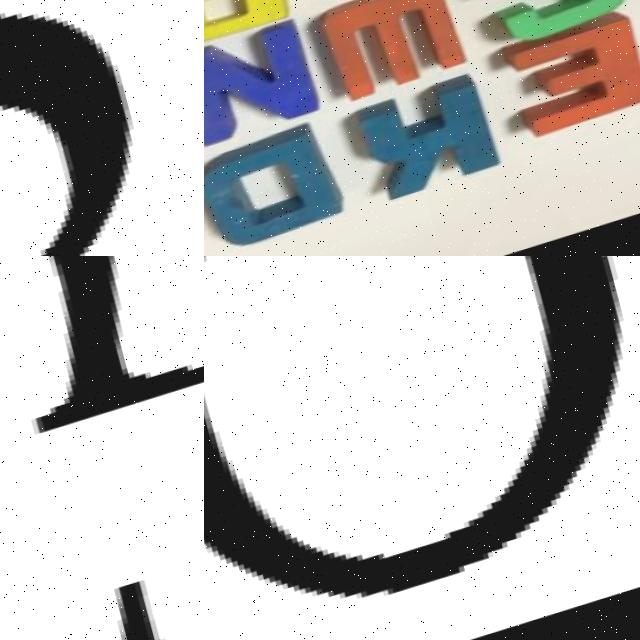C: (469, 0, 629, 55)
D: (204, 120, 344, 256)
E: (497, 18, 640, 147)
G: (0, 256, 204, 640)
K: (344, 77, 498, 210)
N: (204, 21, 314, 152)
O: (204, 256, 626, 599)
R: (204, 0, 298, 58)
S: (0, 0, 204, 256)
W: (314, 0, 470, 107)
